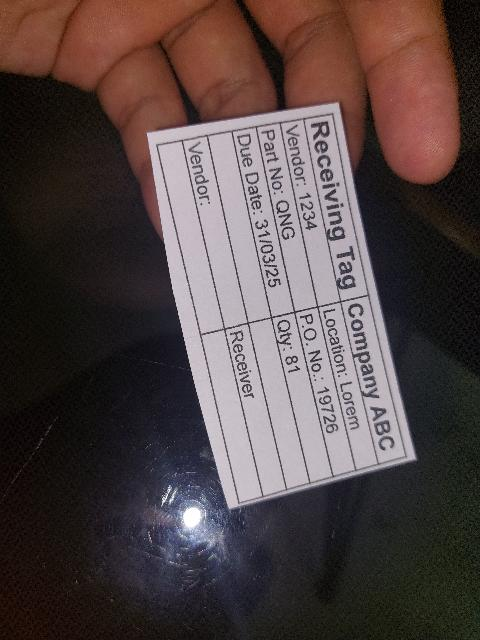PO no: (294, 307, 356, 477)
part no: (256, 123, 318, 313)
qty: (273, 312, 333, 483)
tags: (148, 103, 416, 507)
